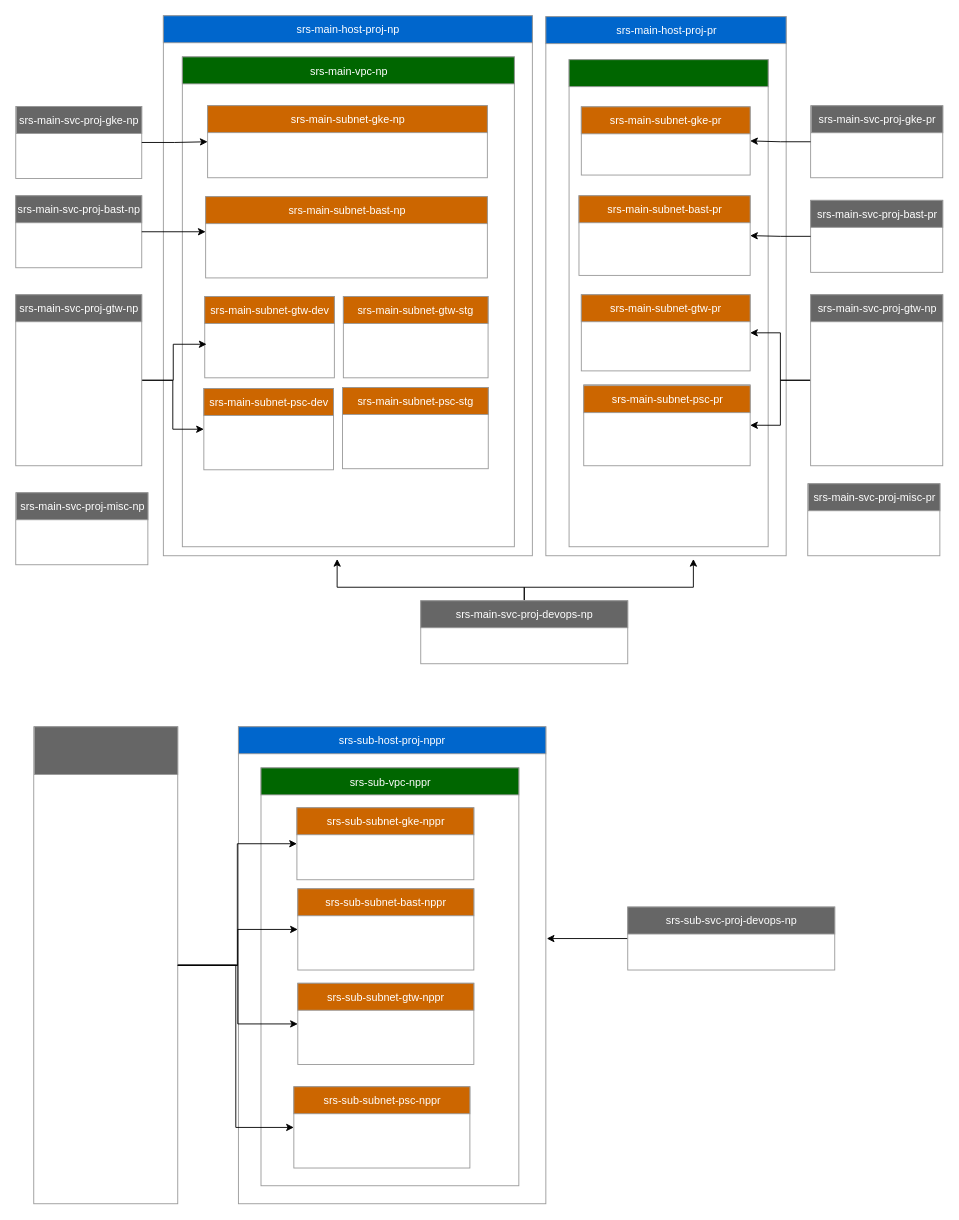
Image size: 959x1220. Some labels were removed from this diagram. Here are the shapes that lost their labels. From the top down, the centre of each, then its label:
pixel 668 73: srs-main-vpc-pr
pixel 106 750: srs-sub-svc-proj-gke-nppr
